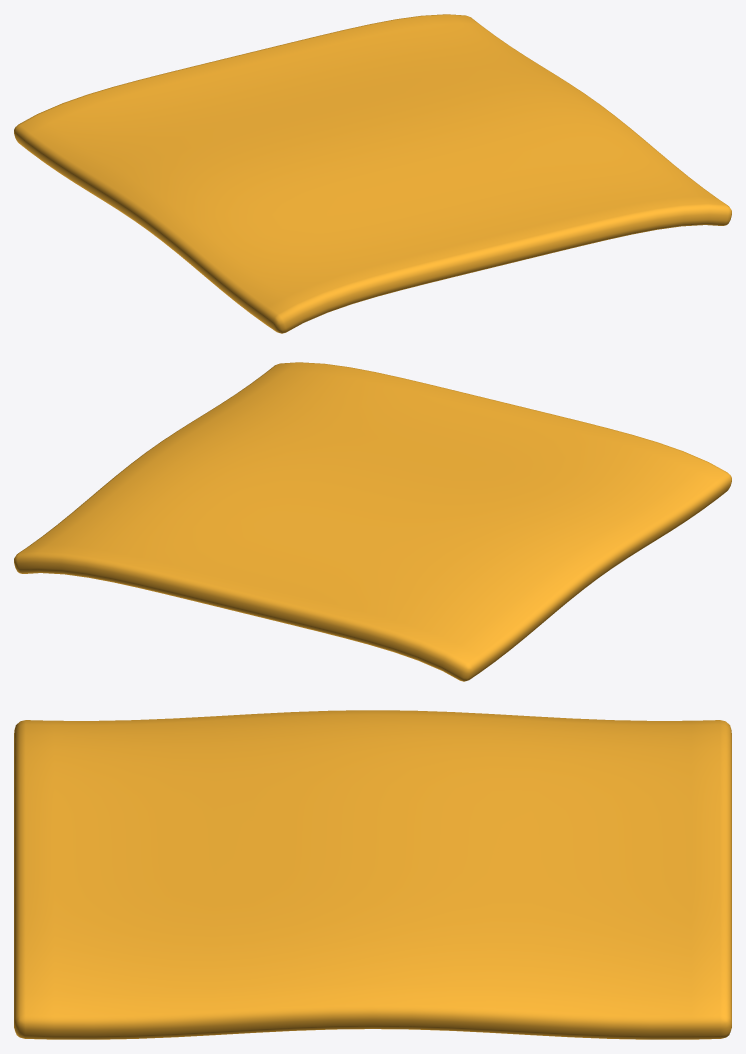
The model's file is item_cheese.glb.
3 views of the same model, one above another, from view 1: azimuth 30°, elevation 25°; view 2: azimuth 150°, elevation 25°; view 3: azimuth 270°, elevation 25° (orthographic). The views are drawn at different scales.
Visible parts, largest first — view 1: とろけるチェダー; view 2: とろけるチェダー; view 3: とろけるチェダー.
Boxes of the visible parts, left/top/right/bottom form: とろけるチェダー: left=14, top=14, right=731, bottom=333; とろけるチェダー: left=14, top=362, right=731, bottom=681; とろけるチェダー: left=14, top=710, right=731, bottom=1039.
Size of the model in its own units: 0.9519 by 0.0853 by 0.9615.
